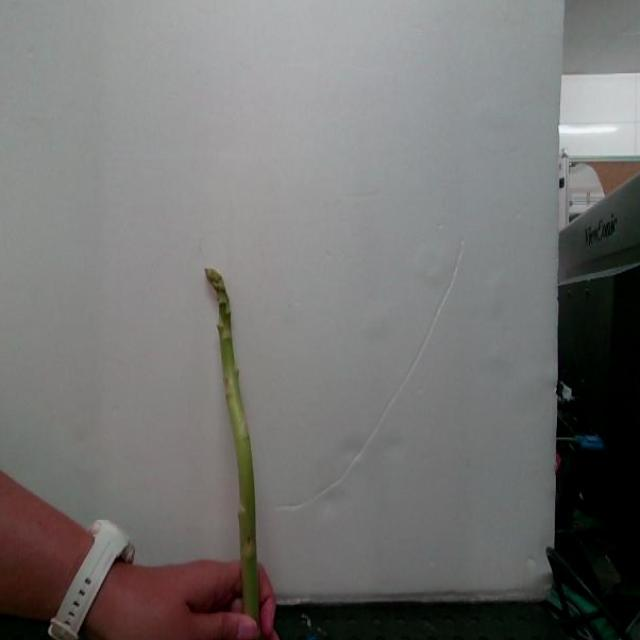aspargus: (207, 270, 276, 640)
